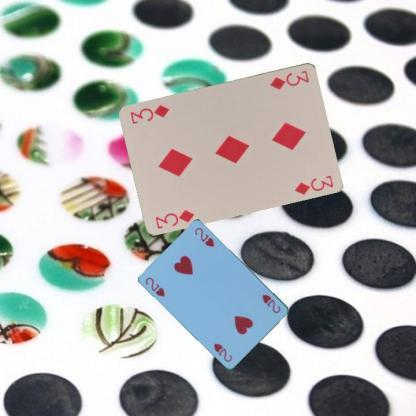2h: (142, 274, 166, 298), (260, 292, 282, 314)
3d: (152, 206, 196, 230), (268, 67, 310, 91)
